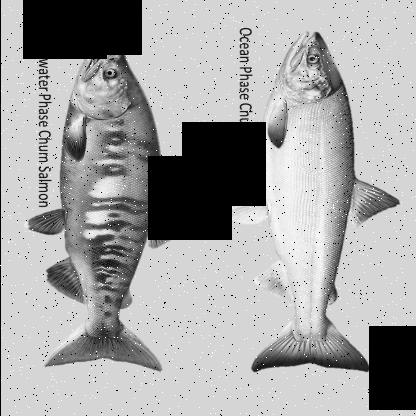fish: (23, 31, 207, 372), (225, 31, 403, 373)
